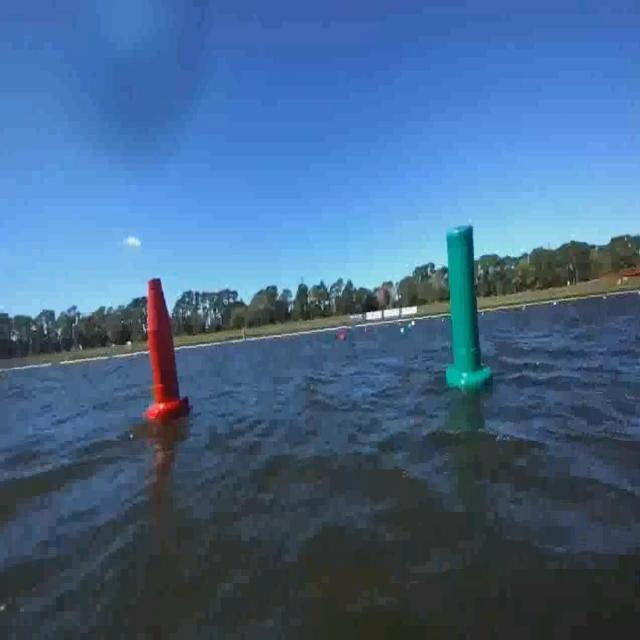green-column-buoy: (442, 227, 489, 393)
red-column-buoy: (144, 275, 188, 422)
